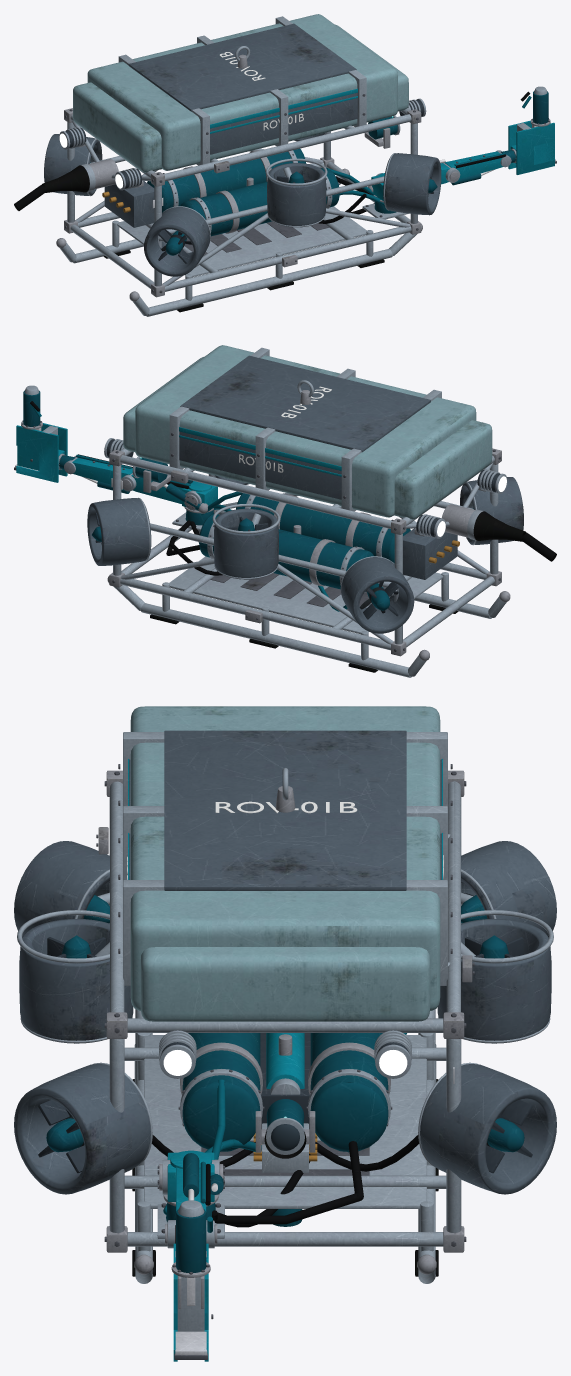
Rendered from rov01b_cutter_lod0.glb.
The picture shows the model from 3 angles, top to bottom: view 1: azimuth 30°, elevation 25°; view 2: azimuth 150°, elevation 25°; view 3: azimuth 270°, elevation 25°; orthographic projection. The views are drawn at different scales.
Parts seen in each view (by area): view 1: cutter_frame__foam, cutter_frame__slate_lt, cutter_frame__alu, cutter_thrusters__slate_lt, cutter_frame__alu.001, cutter_frame__cyan_dk, cutter_shear_head__cyan, cutter_detail__slate_lt, cutter_frame__steel_dk, cutter_frame__steel, cutter_frame__cyan, cutter_tether__rubber (+12 smaller); view 2: cutter_frame__foam, cutter_frame__slate_lt, cutter_frame__alu, cutter_thrusters__slate_lt, cutter_frame__alu.001, cutter_frame__cyan_dk, cutter_shear_head__cyan, cutter_detail__slate_lt, cutter_frame__steel_dk, cutter_frame__steel, cutter_frame__cyan, cutter_tether__rubber (+14 smaller); view 3: cutter_frame__foam, cutter_thrusters__slate_lt, cutter_frame__slate_lt, cutter_frame__alu, cutter_frame__alu.001, cutter_frame__cyan_dk, cutter_thrusters__cyan_dk, cutter_frame__steel, cutter_thrusters__slate, cutter_detail__alu.001, cutter_hoses__hose, cutter_thrusters__alu (+14 smaller).
Part boxes in pixels (box(x1,y1,x2,y2)): cutter_frame__foam: box(73, 14, 408, 172); cutter_frame__slate_lt: box(128, 23, 357, 154); cutter_frame__alu: box(60, 46, 417, 316); cutter_thrusters__slate_lt: box(44, 133, 441, 276); cutter_frame__alu.001: box(117, 16, 366, 277); cutter_frame__cyan_dk: box(147, 148, 339, 238); cutter_shear_head__cyan: box(508, 120, 554, 174); cutter_detail__slate_lt: box(104, 171, 154, 227); cutter_frame__steel_dk: box(65, 94, 418, 293); cutter_frame__steel: box(56, 108, 422, 301); cutter_frame__cyan: box(210, 88, 357, 133); cutter_tether__rubber: box(41, 165, 89, 192); cutter_frame__foam: box(123, 345, 492, 519); cutter_frame__slate_lt: box(179, 355, 430, 499); cutter_frame__alu: box(113, 380, 506, 677); cutter_thrusters__slate_lt: box(87, 475, 523, 633); cutter_frame__alu.001: box(169, 347, 443, 634); cutter_frame__cyan_dk: box(199, 493, 410, 591); cutter_shear_head__cyan: box(16, 423, 67, 482); cutter_detail__slate_lt: box(403, 517, 457, 579); cutter_frame__steel_dk: box(112, 433, 500, 651); cutter_frame__steel: box(107, 448, 510, 660); cutter_frame__cyan: box(179, 427, 341, 476); cutter_tether__rubber: box(473, 511, 526, 541); cutter_frame__foam: box(130, 706, 440, 1021); cutter_thrusters__slate_lt: box(14, 841, 556, 1194); cutter_frame__slate_lt: box(129, 730, 441, 890); cutter_frame__alu: box(109, 768, 461, 1283); cutter_frame__alu.001: box(123, 732, 447, 1208); cutter_frame__cyan_dk: box(182, 1033, 388, 1152); cutter_thrusters__cyan_dk: box(46, 895, 524, 1152); cutter_frame__steel: box(106, 770, 464, 1274); cutter_thrusters__slate: box(38, 937, 532, 1173); cutter_detail__alu.001: box(17, 910, 553, 963); cutter_hoses__hose: box(214, 1141, 363, 1224); cutter_thrusters__alu: box(20, 869, 550, 1167).
Bounding box in the file's own units: 3.4 × 1.35 × 1.61.
19 materials, 15 textured.
